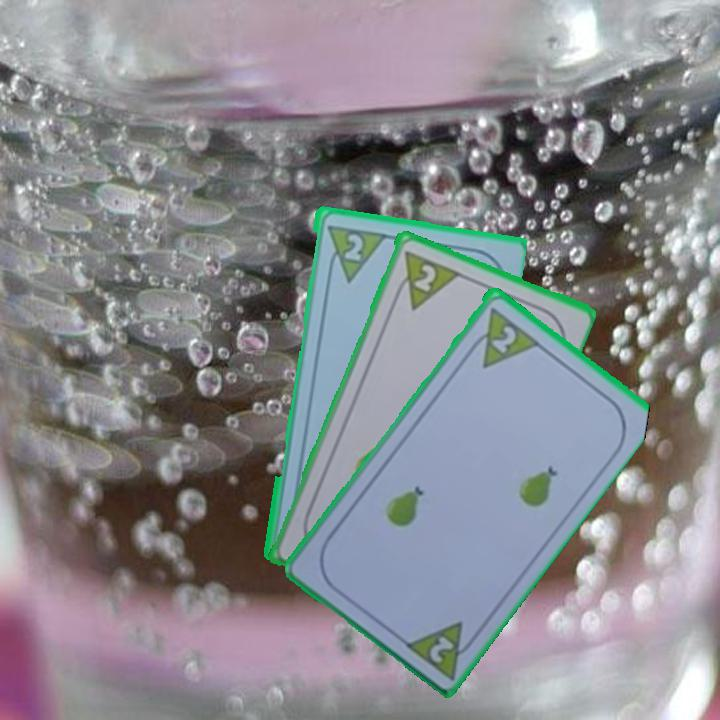2p: (388, 246, 461, 313), (487, 321, 520, 356), (425, 631, 457, 666), (338, 229, 366, 264)
